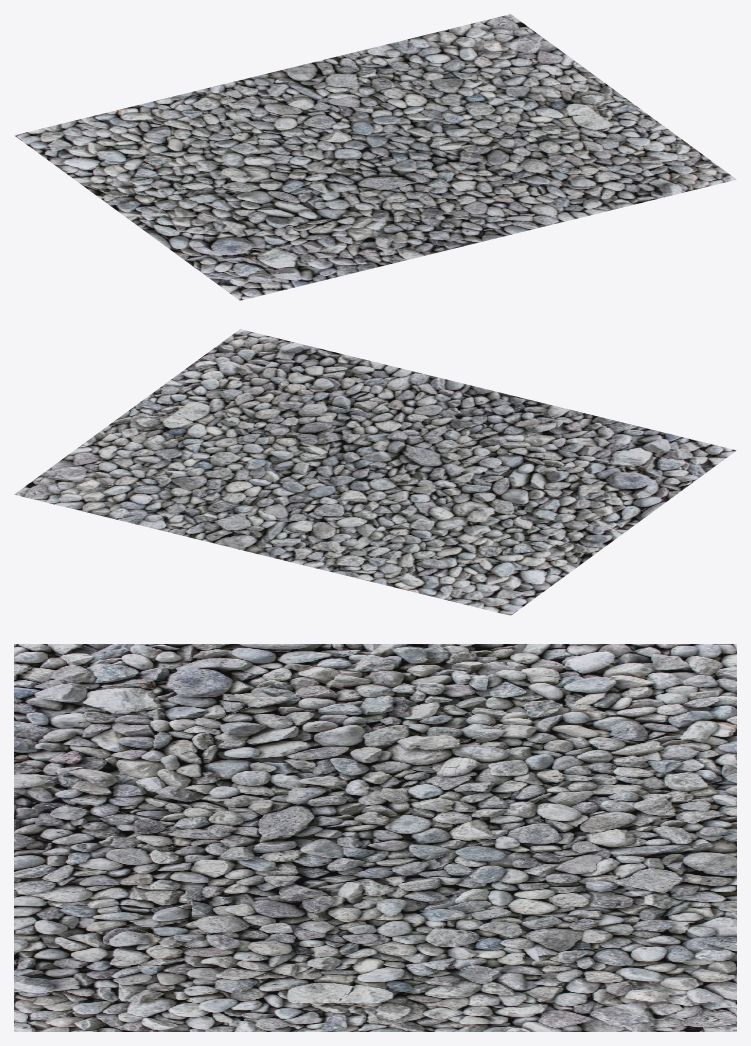
Rendered from Plano_piso.fbx.
3 renders of one model, top to bottom at view 1: azimuth 30°, elevation 25°; view 2: azimuth 150°, elevation 25°; view 3: azimuth 270°, elevation 25°, orthographic. The views are drawn at different scales.
Visible parts, largest first — view 1: Plane001; view 2: Plane001; view 3: Plane001.
Boxes of the visible parts, x1,y1,x2,y2 form: Plane001: (14,14,736,300); Plane001: (14,329,736,615); Plane001: (14,644,736,1031).
Bounding box in the file's own units: 60.42 × 2.92e-15 × 47.61.
1 material, 1 textured.
